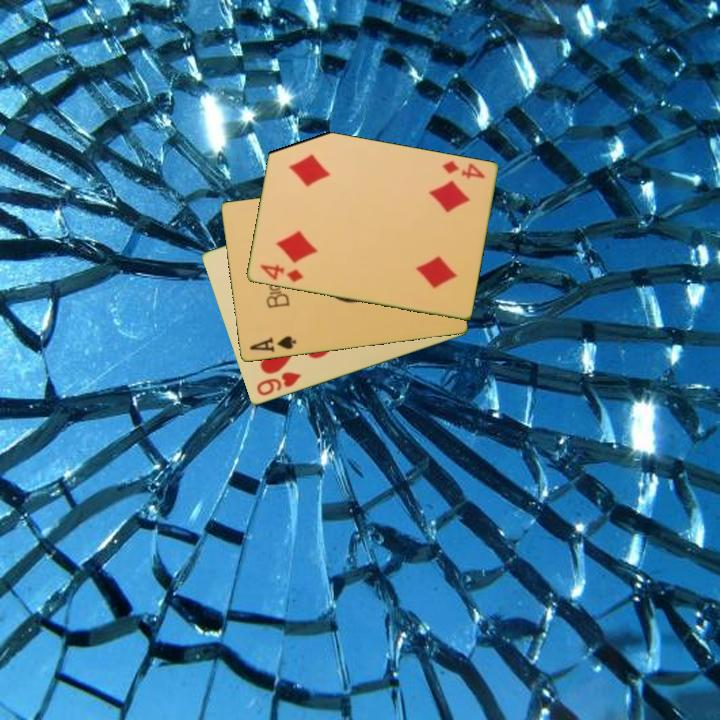4d: (256, 261, 306, 285), (439, 157, 487, 182)
9h: (253, 369, 303, 399)
As: (246, 333, 299, 355)
